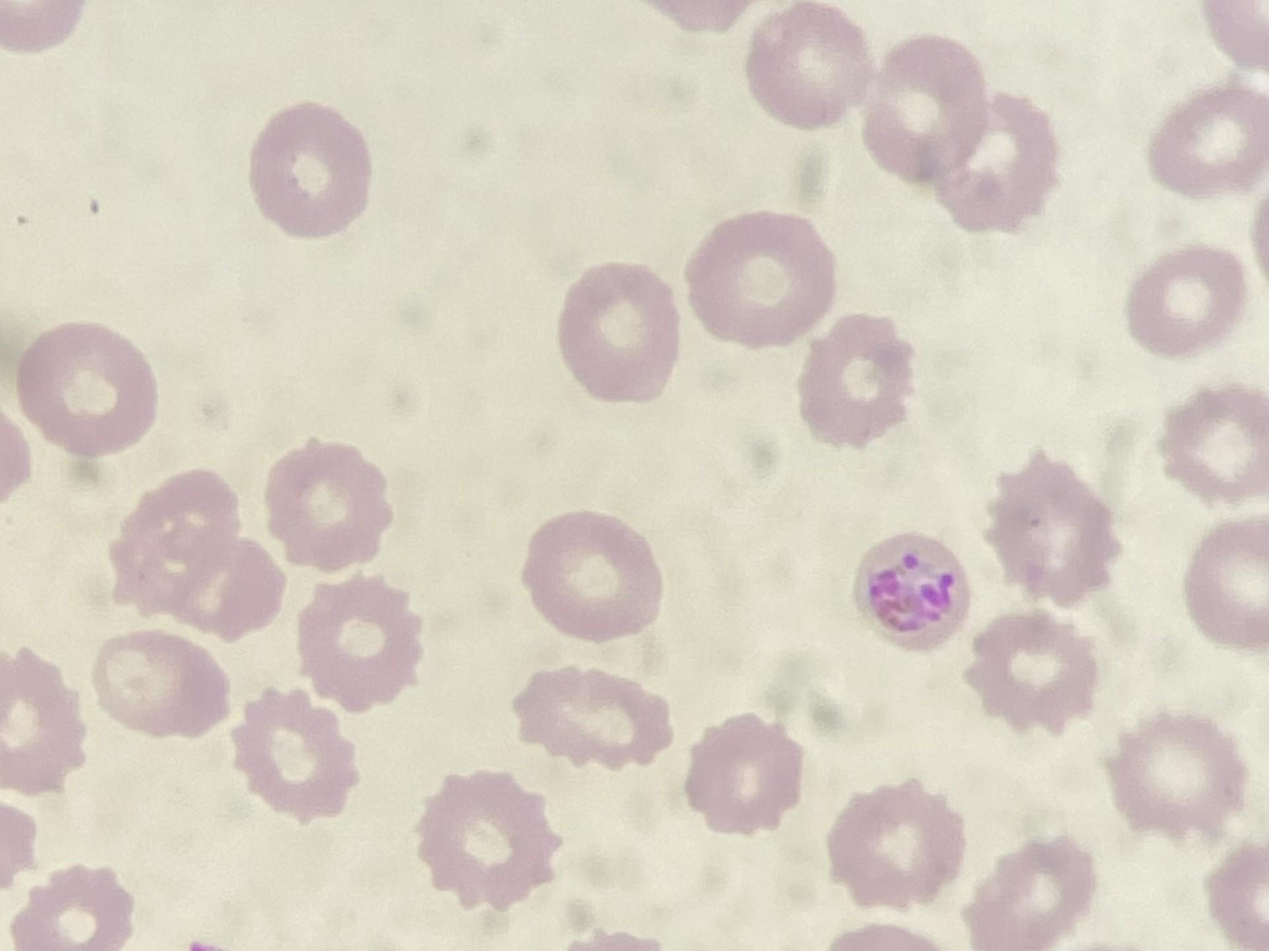Infected: (852, 531, 973, 649)
Uninfected: (110, 469, 288, 641), (689, 214, 842, 357), (413, 771, 560, 916), (985, 452, 1117, 605), (15, 319, 160, 457), (521, 510, 662, 642), (825, 780, 966, 910), (868, 38, 996, 181), (555, 263, 684, 402), (296, 577, 428, 710), (246, 100, 374, 236), (263, 438, 394, 568), (232, 688, 359, 821), (936, 94, 1059, 230), (963, 611, 1098, 733), (514, 665, 669, 771), (1102, 717, 1237, 837), (745, 2, 872, 125), (92, 629, 231, 740), (683, 713, 807, 834), (800, 317, 917, 445), (964, 837, 1094, 948), (1146, 86, 1269, 199), (1125, 245, 1246, 357), (1157, 383, 1268, 500)
